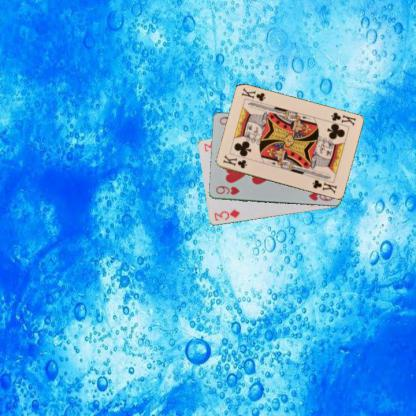3d: (211, 207, 241, 222)
9h: (213, 183, 241, 197)
Kc: (220, 152, 248, 170), (328, 110, 357, 127)
